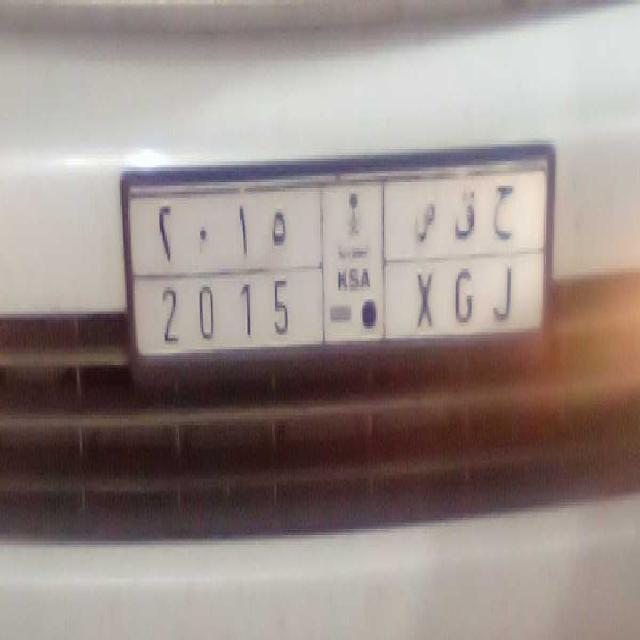license_plate: (135, 257, 540, 356)
